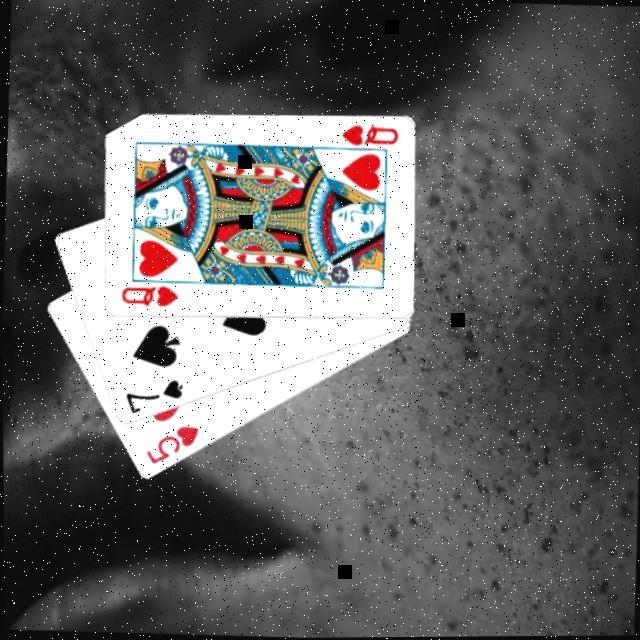5H: (139, 420, 200, 468)
7S: (120, 373, 184, 418)
QH: (328, 121, 399, 155), (115, 280, 178, 310)
